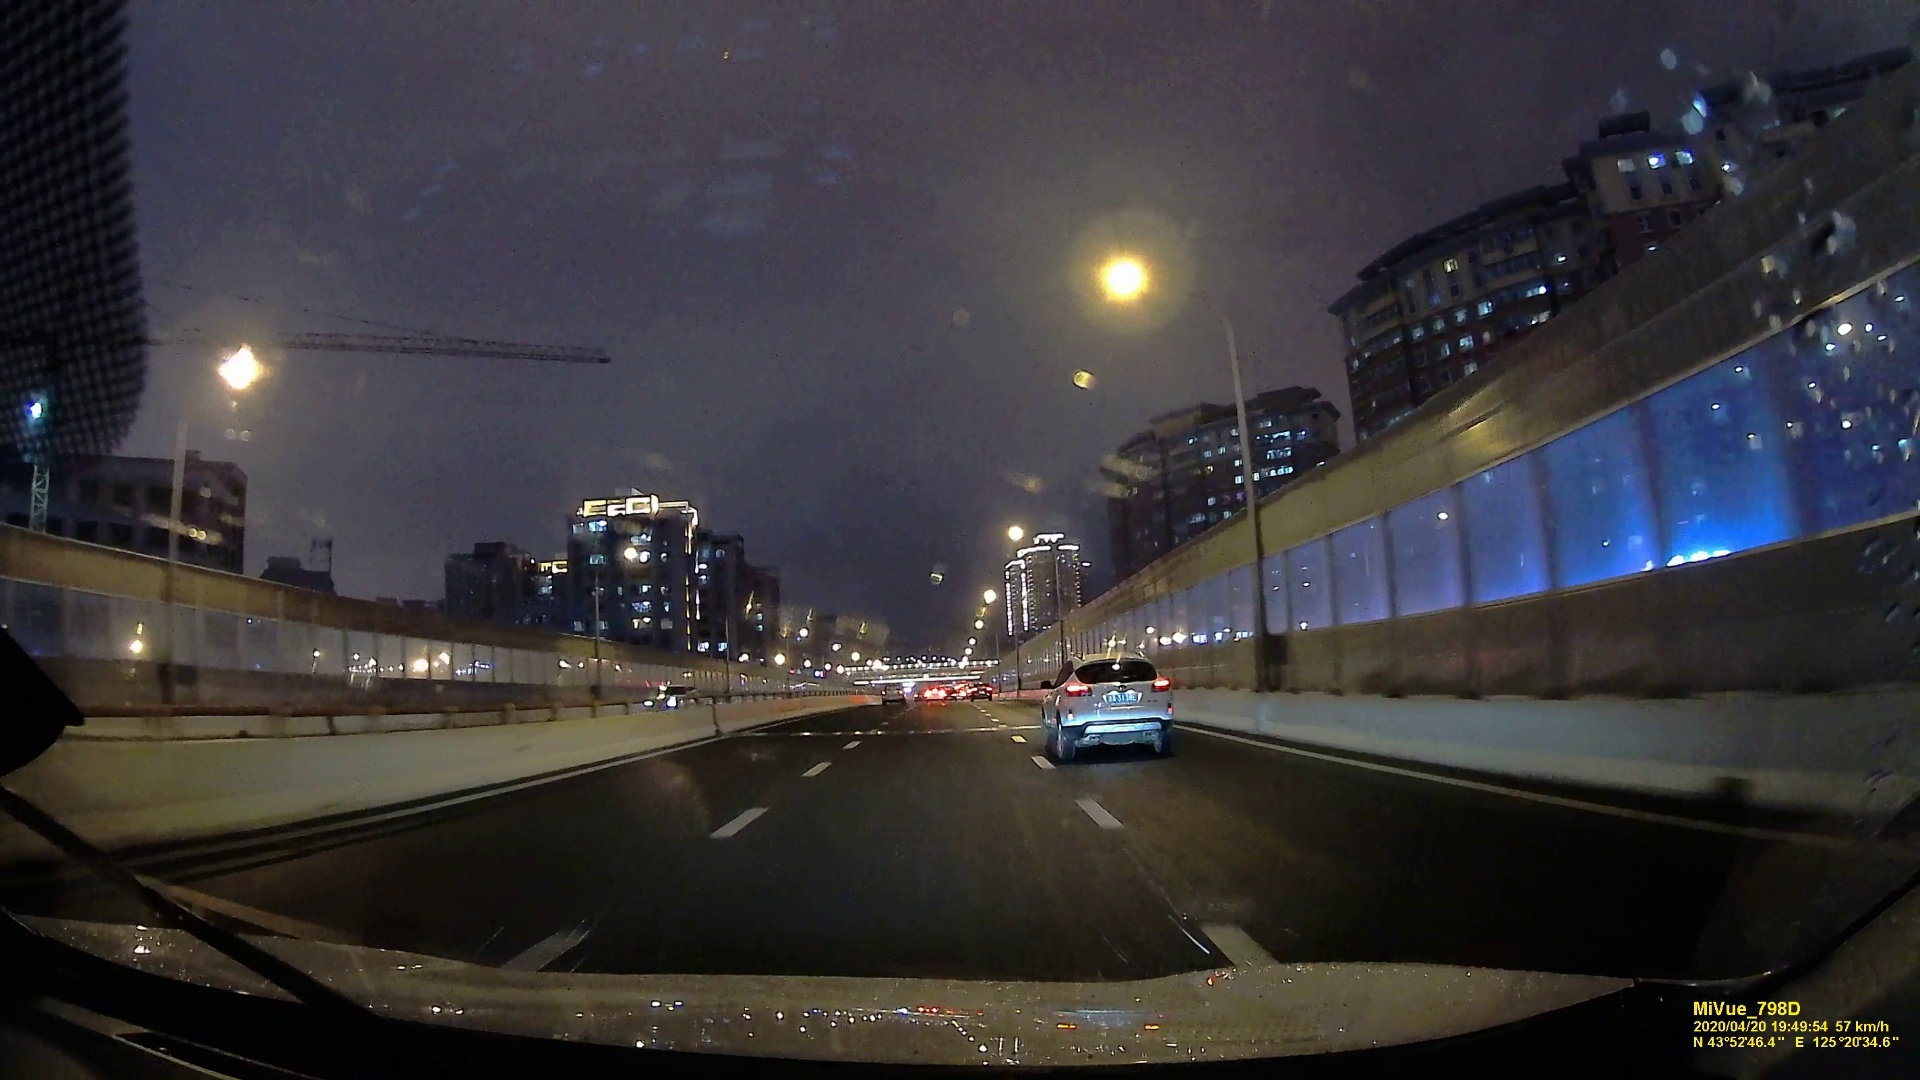vehicle: (1038, 654, 1175, 758), (645, 687, 696, 707), (969, 680, 993, 702), (882, 684, 906, 703)
